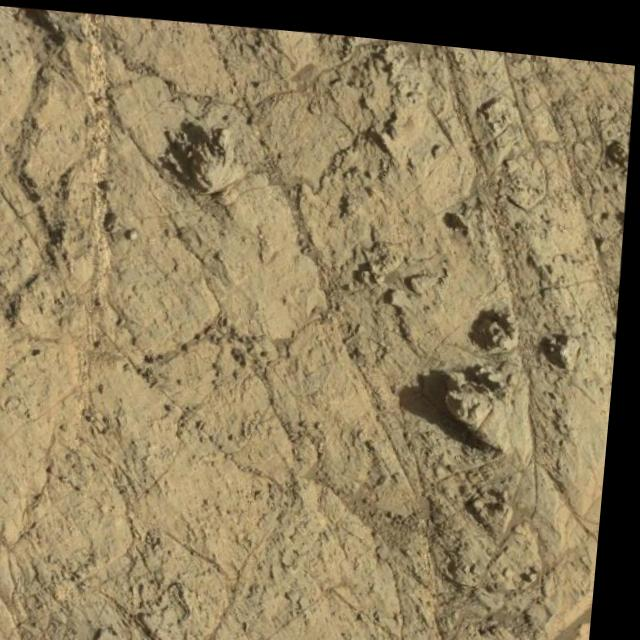mars-rocks: (451, 352, 538, 449), (167, 116, 245, 185)
